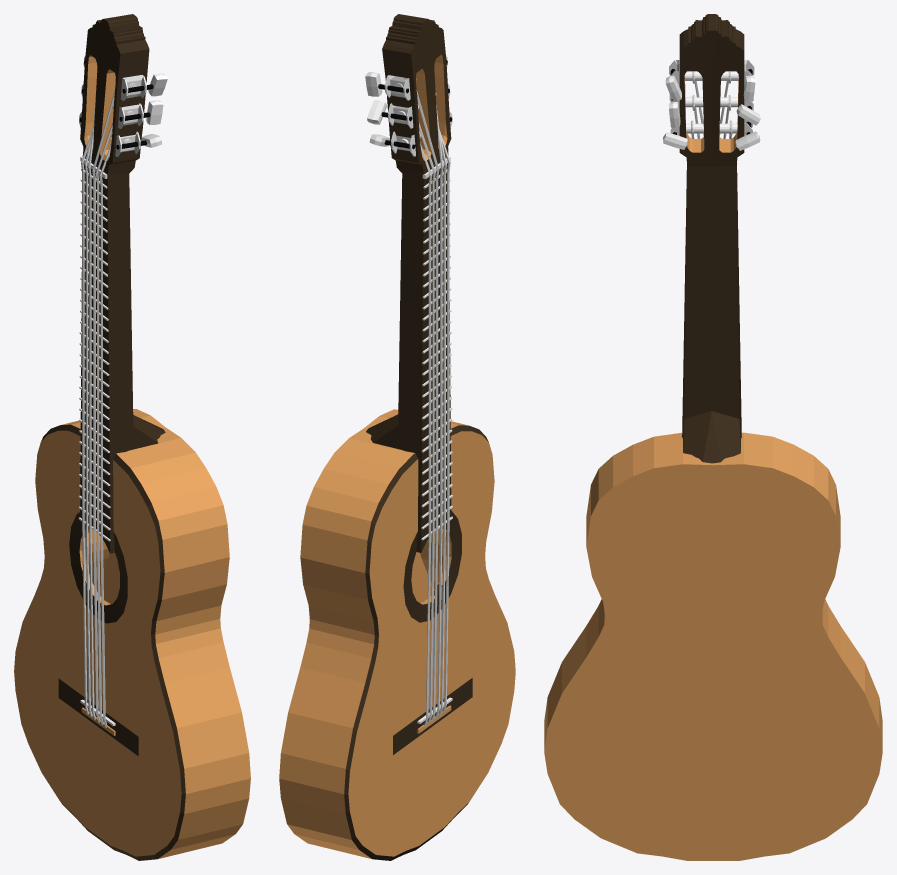
File: guitarra.glb
The picture shows the model from 3 angles, left to right: view 1: azimuth 30°, elevation 25°; view 2: azimuth 150°, elevation 25°; view 3: azimuth 270°, elevation 25°; orthographic projection.
Parts seen in each view (by area): view 1: cuerpo, cuerdas, clavija; view 2: cuerpo, cuerdas, clavija; view 3: cuerpo, clavija, cuerdas.
Boxes of the visible parts, bbox=[...] form: cuerpo: bbox=[14, 14, 250, 860]; cuerdas: bbox=[81, 90, 114, 727]; clavija: bbox=[79, 56, 167, 156]; cuerpo: bbox=[279, 14, 515, 860]; cuerdas: bbox=[416, 90, 450, 726]; clavija: bbox=[365, 55, 452, 156]; cuerpo: bbox=[544, 14, 882, 860]; clavija: bbox=[663, 60, 760, 150]; cuerdas: bbox=[691, 71, 732, 138].
Size of the model in its own units: 1.3 by 13.27 by 4.98.
